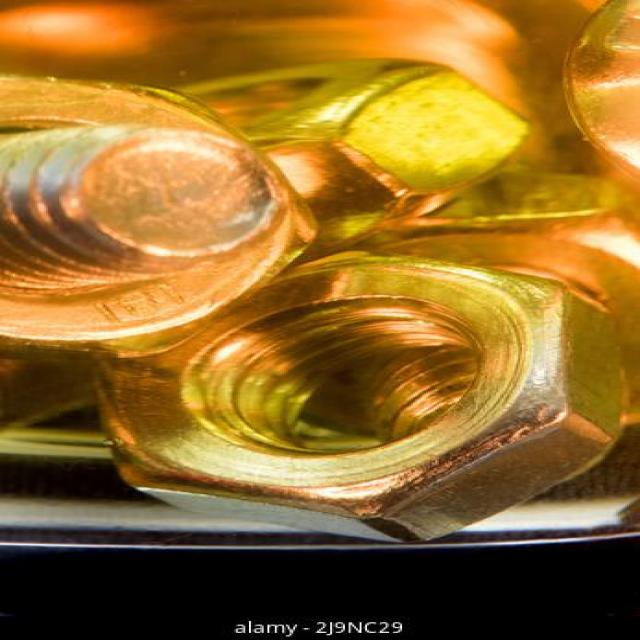Bolt: (6, 116, 280, 300)
Nut: (103, 244, 620, 542)
